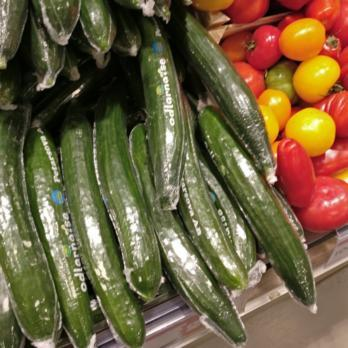Cucumber: (0, 4, 146, 348), (130, 38, 219, 324), (221, 92, 256, 348), (255, 198, 326, 315)
